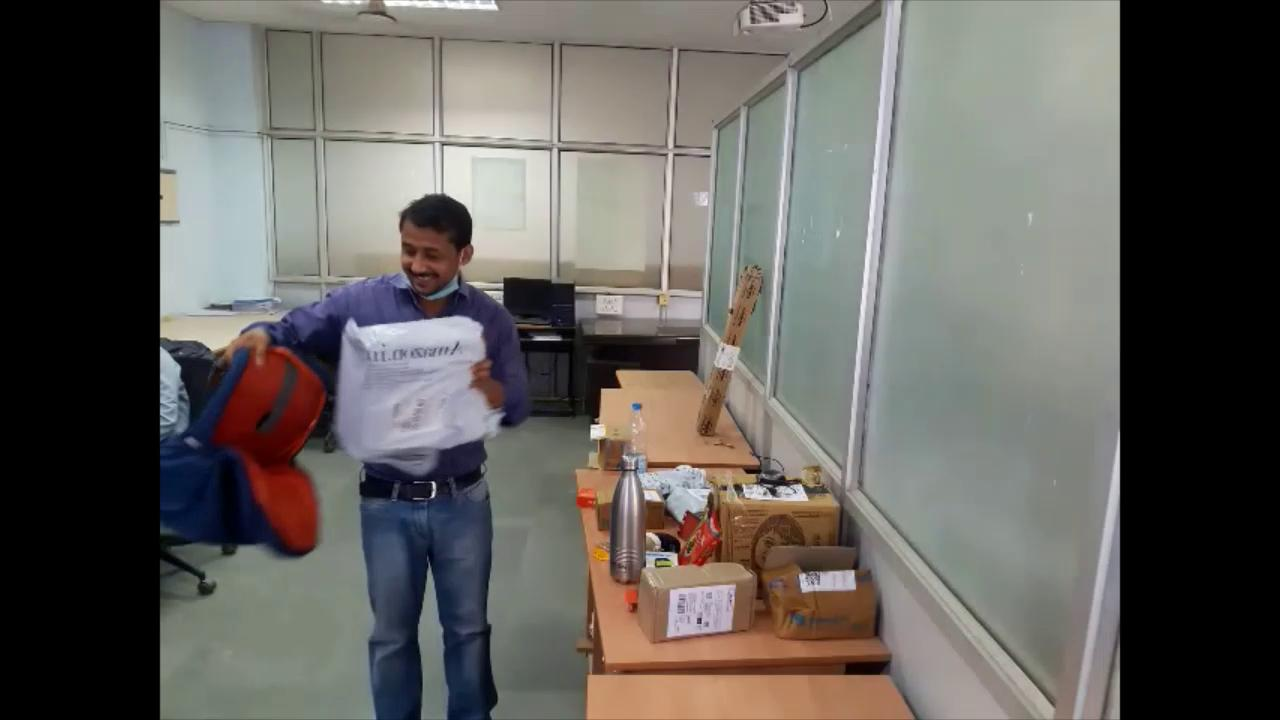shoplifting: (193, 210, 537, 720)
